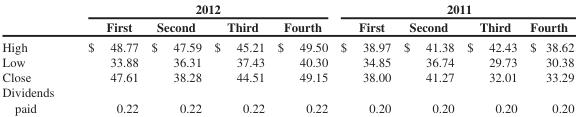table: (1, 1, 573, 114)
table column: (70, 1, 144, 114), (1, 1, 70, 114), (144, 1, 207, 114), (207, 1, 270, 114), (270, 1, 333, 114), (333, 1, 396, 114), (396, 1, 459, 114), (459, 1, 522, 114), (522, 1, 573, 114)
table column header: (1, 1, 573, 36)
table row: (1, 84, 573, 114), (1, 17, 573, 36), (1, 36, 573, 54), (1, 1, 573, 17), (1, 54, 573, 69), (1, 69, 573, 84)
table spanning cell: (70, 1, 333, 17), (333, 1, 573, 17)
